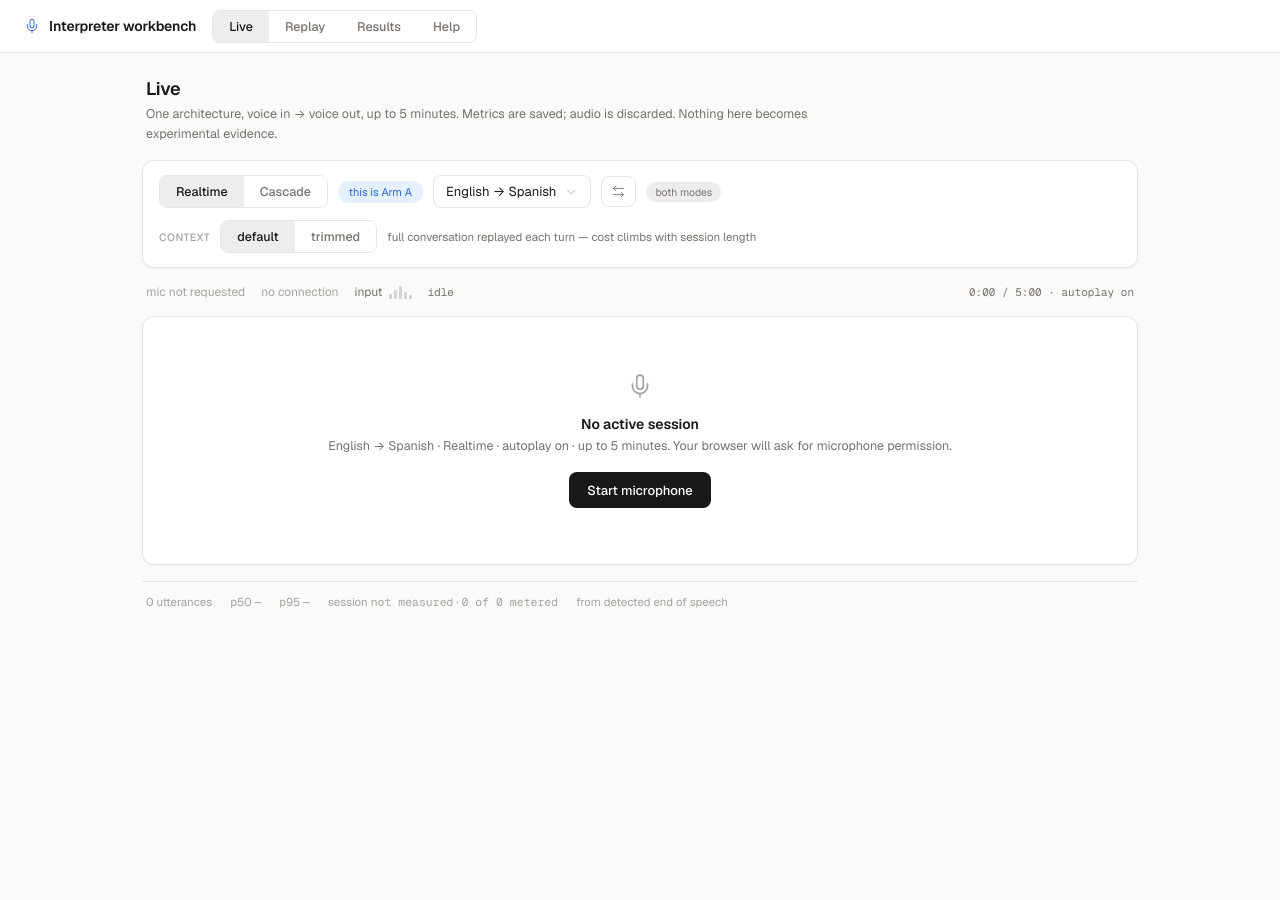
Test: mic permission: live four-value indicator › denied blocks Live only — Results stays usable
Click the button "Start microphone" at x=640, y=490, box [569,472,711,508]
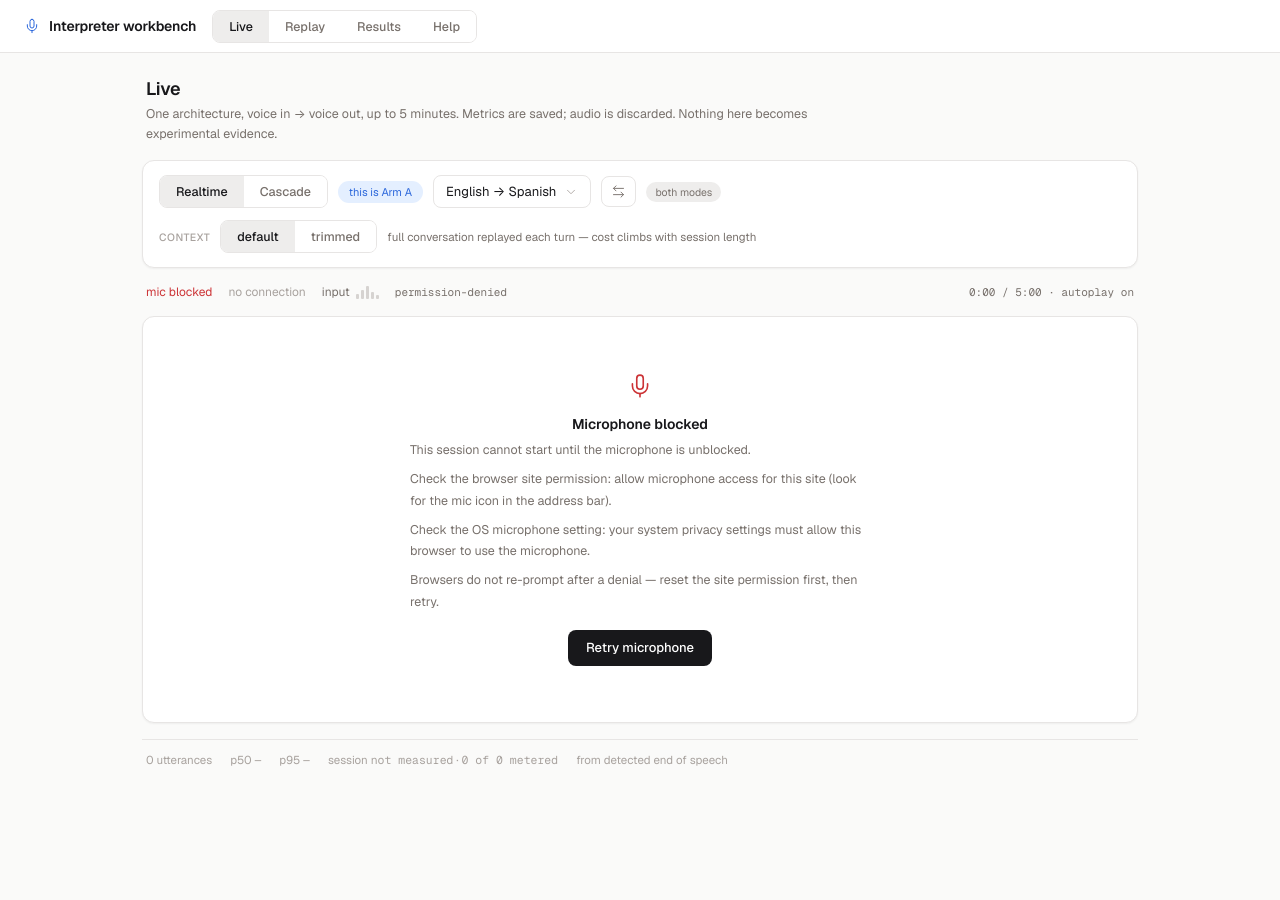
Click the button "Results" at x=379, y=26, box [341,10,417,42]
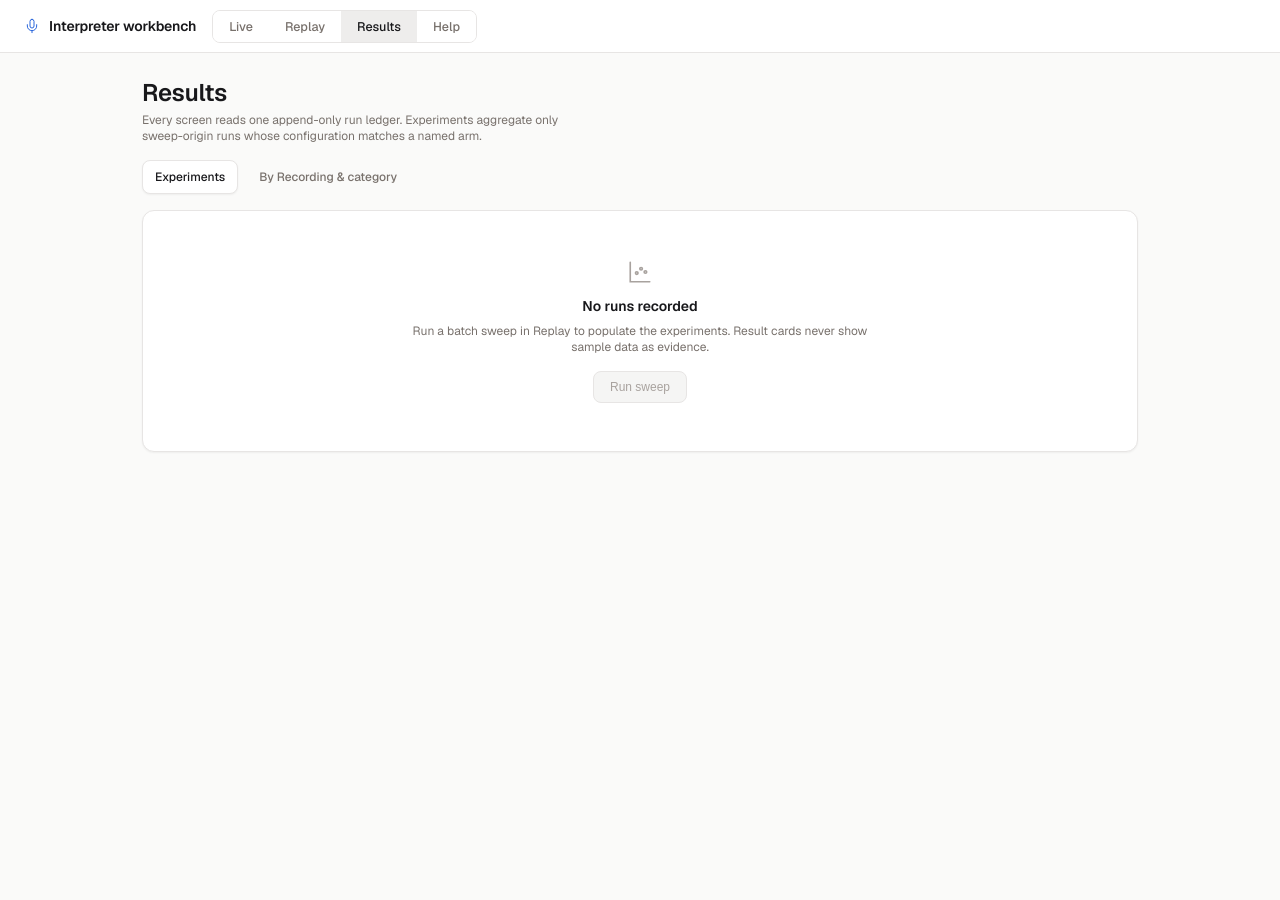
Expected: the text "No runs recorded" is shown, [582,297,698,315]
